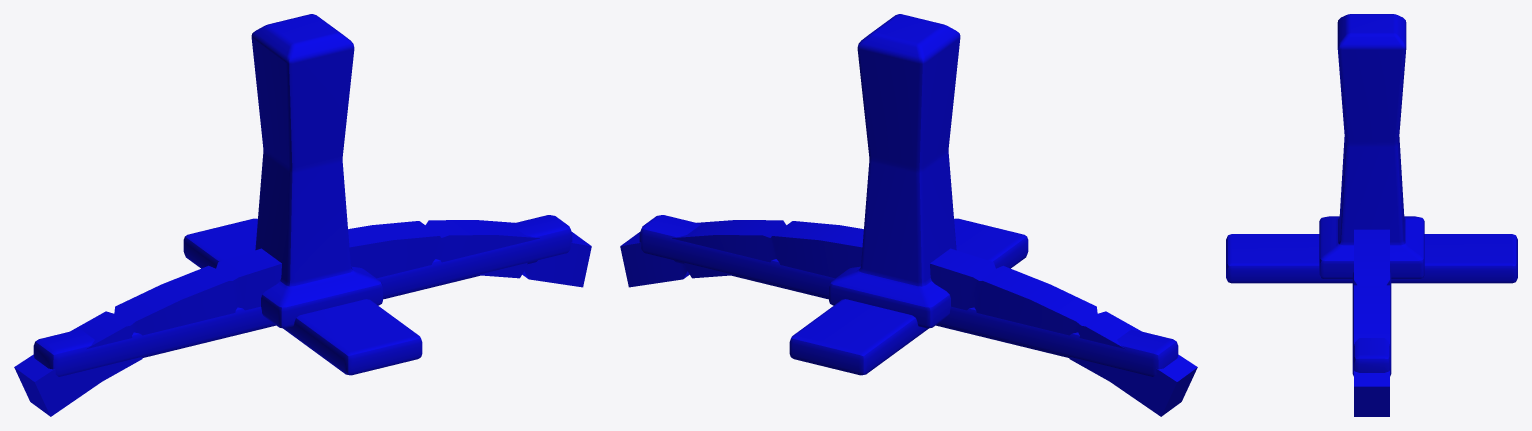
The model's file is Bridge03.fbx.
3 renders of one model, left to right at view 1: azimuth 30°, elevation 25°; view 2: azimuth 150°, elevation 25°; view 3: azimuth 270°, elevation 25°, orthographic. The views are drawn at different scales.
Parts seen in each view (by area): view 1: pCube31, pCube28, pCube30, pCube33; view 2: pCube31, pCube28, pCube30, pCube33; view 3: pCube31, pCube33, pCube28, pCube30.
Boxes of the visible parts, x1,y1,x2,y2 form: pCube31: (251, 14, 382, 328); pCube28: (14, 220, 591, 416); pCube30: (33, 215, 572, 376); pCube33: (183, 218, 422, 375); pCube31: (829, 14, 960, 328); pCube28: (620, 220, 1197, 416); pCube30: (639, 215, 1178, 376); pCube33: (789, 218, 1028, 375); pCube31: (1319, 14, 1424, 278); pCube33: (1226, 234, 1517, 283); pCube28: (1354, 229, 1389, 416); pCube30: (1352, 272, 1391, 376).
Size of the model in its own units: 412 by 224 by 213.
